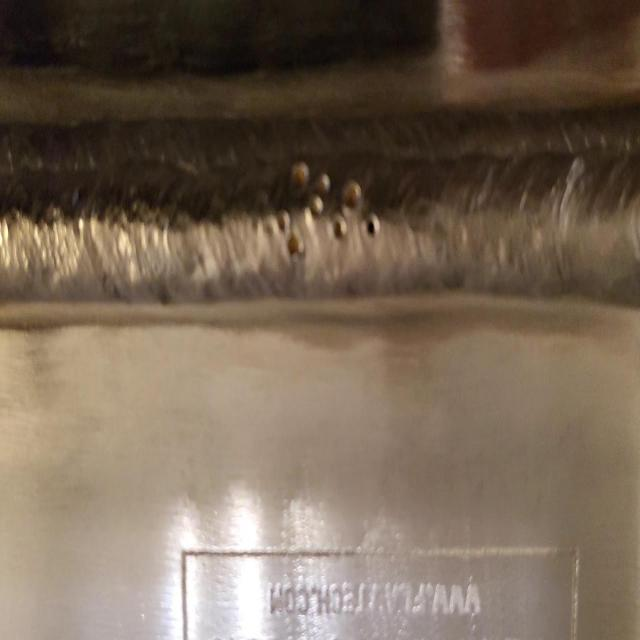Welding Line: (3, 133, 640, 285)
Workpiece: (4, 2, 640, 640)
porosity: (275, 161, 379, 259)
